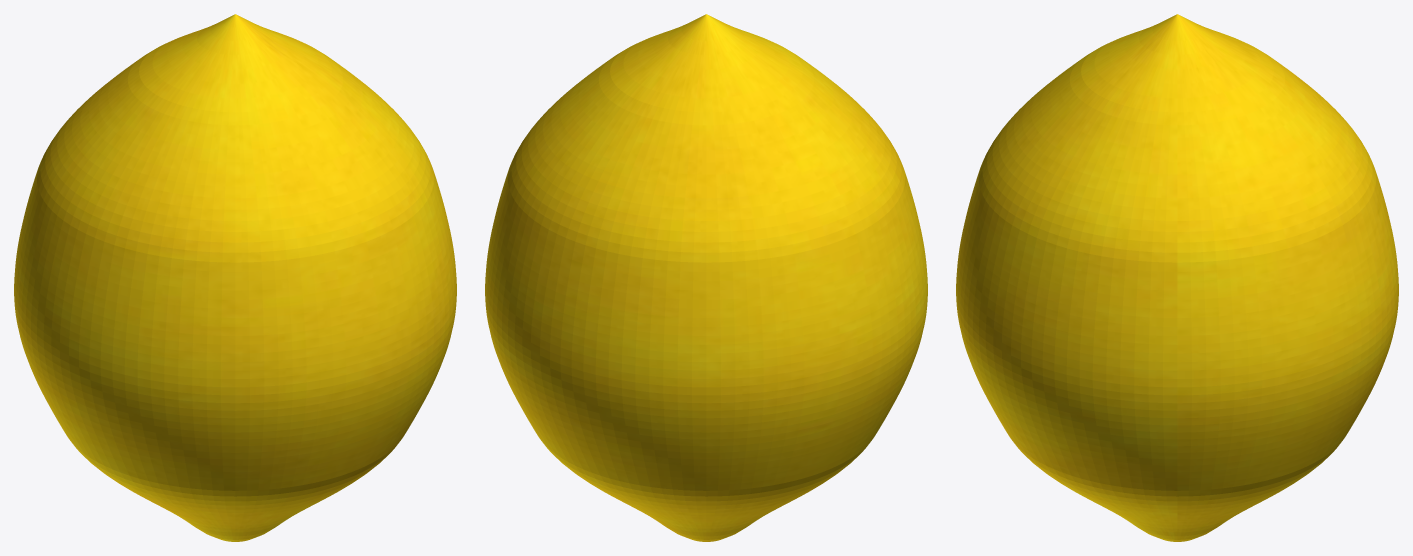
File: lemon-cartoon2.glb
3 views of the same model, side by side, from view 1: azimuth 30°, elevation 25°; view 2: azimuth 150°, elevation 25°; view 3: azimuth 270°, elevation 25° (orthographic).
Bounding box in the file's own units: 1.8 × 2.36 × 1.8.
Materials: 2 (2 with a texture image).
